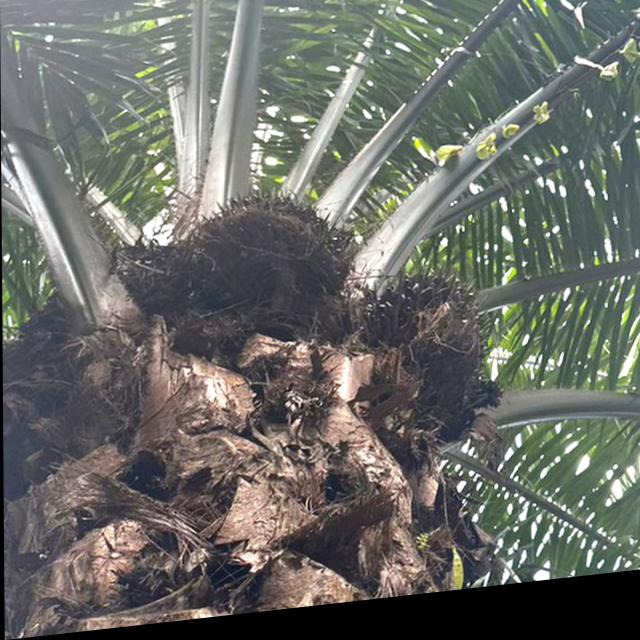unripe: (173, 183, 358, 339)
